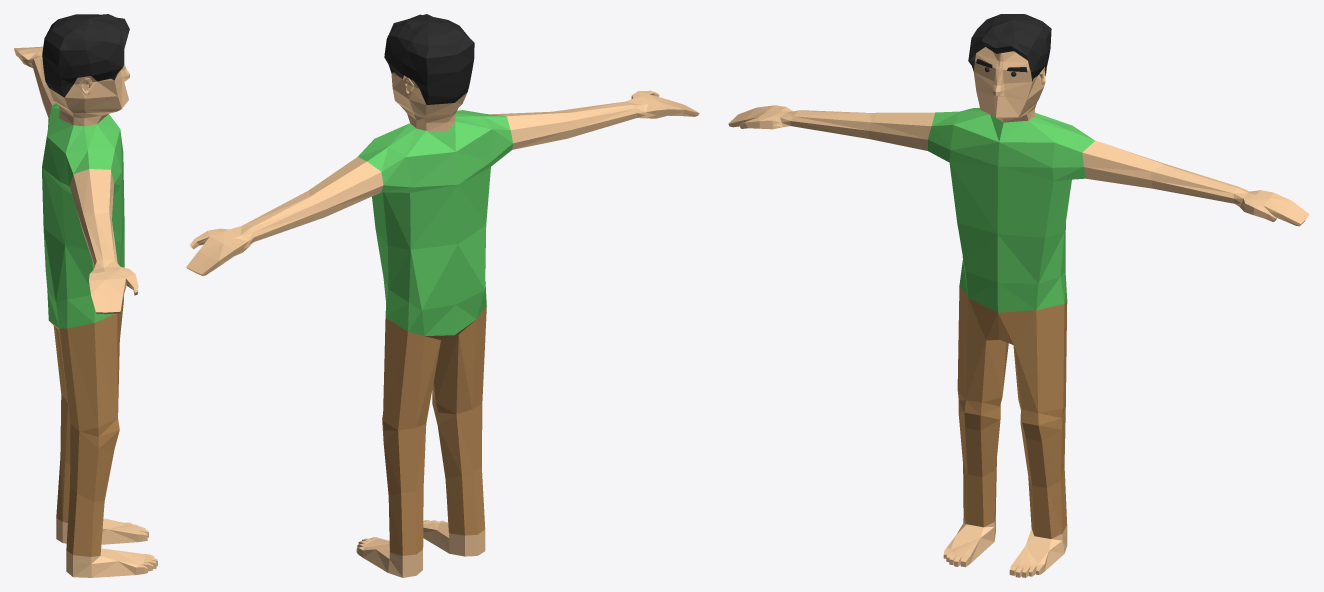
File: Human_Mesh.001.fbx
3 views of the same model, side by side, from view 1: azimuth 30°, elevation 25°; view 2: azimuth 150°, elevation 25°; view 3: azimuth 270°, elevation 25° (orthographic).
Visible parts, largest first — view 1: Human_Mesh.001; view 2: Human_Mesh.001; view 3: Human_Mesh.001.
Part boxes in pixels (<box>): Human_Mesh.001: <box>14,14,157,577</box>; Human_Mesh.001: <box>186,14,699,577</box>; Human_Mesh.001: <box>728,14,1309,577</box>.
Size of the model in its own units: 208 by 447 by 448.
